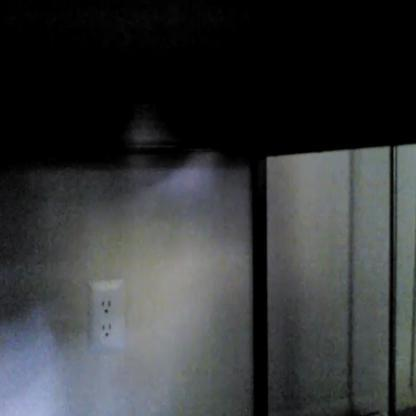OUTLET: (86, 278, 124, 352)
